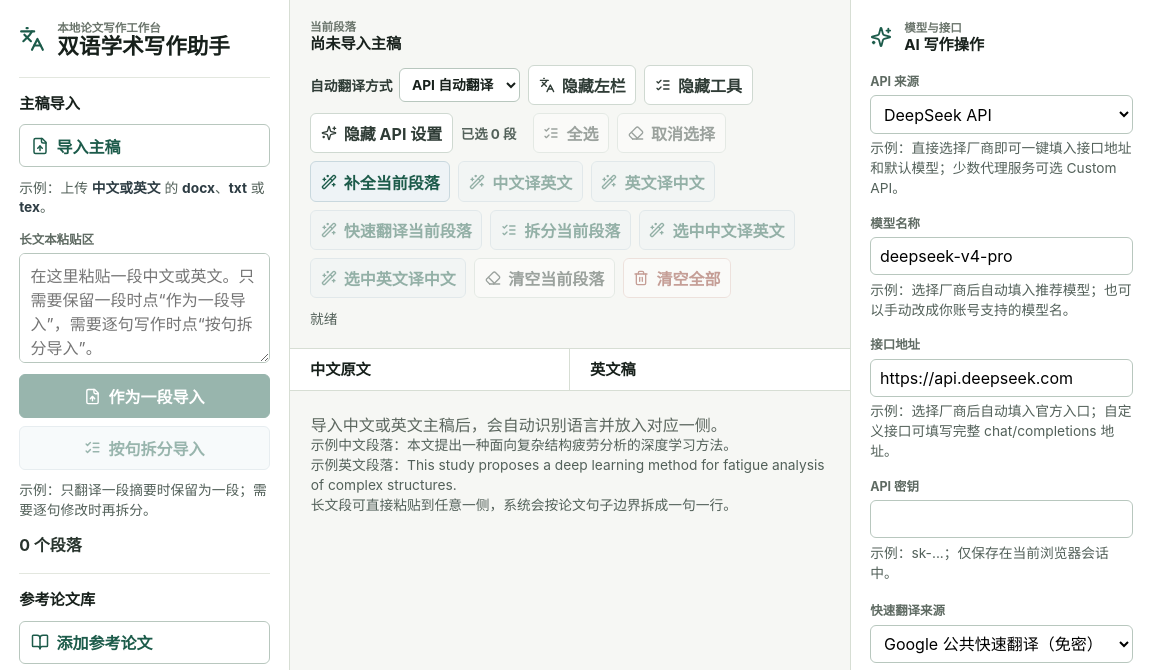
App workbench › fills endpoint and model when a provider preset is selected
The image size is (1152, 670).
Select "Qwen DashScope（通义千问）" in the dropdown labelled "API 来源" at (1002, 115), box top-left (870, 95), bottom-right (1133, 134)
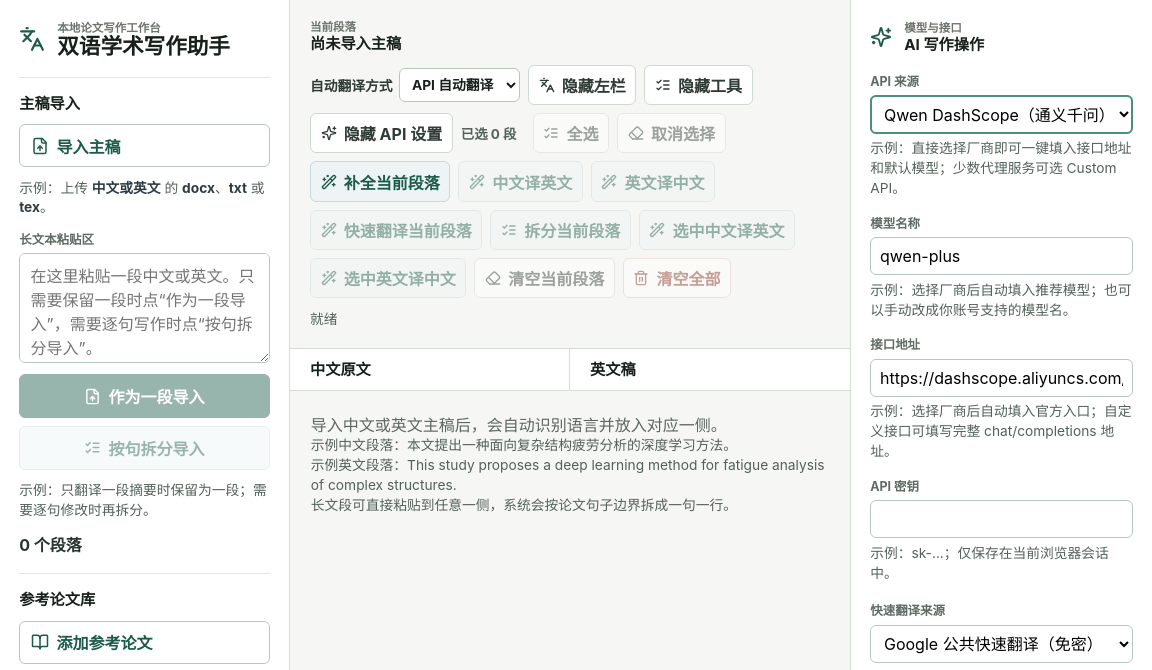
Now the field labelled "模型名称" holds "qwen-plus", box top-left (870, 237), bottom-right (1133, 275)
Now the field labelled "接口地址" holds "https://dashscope.aliyuncs.com/compatible-mode/v1/chat/completions", box top-left (870, 359), bottom-right (1133, 397)
